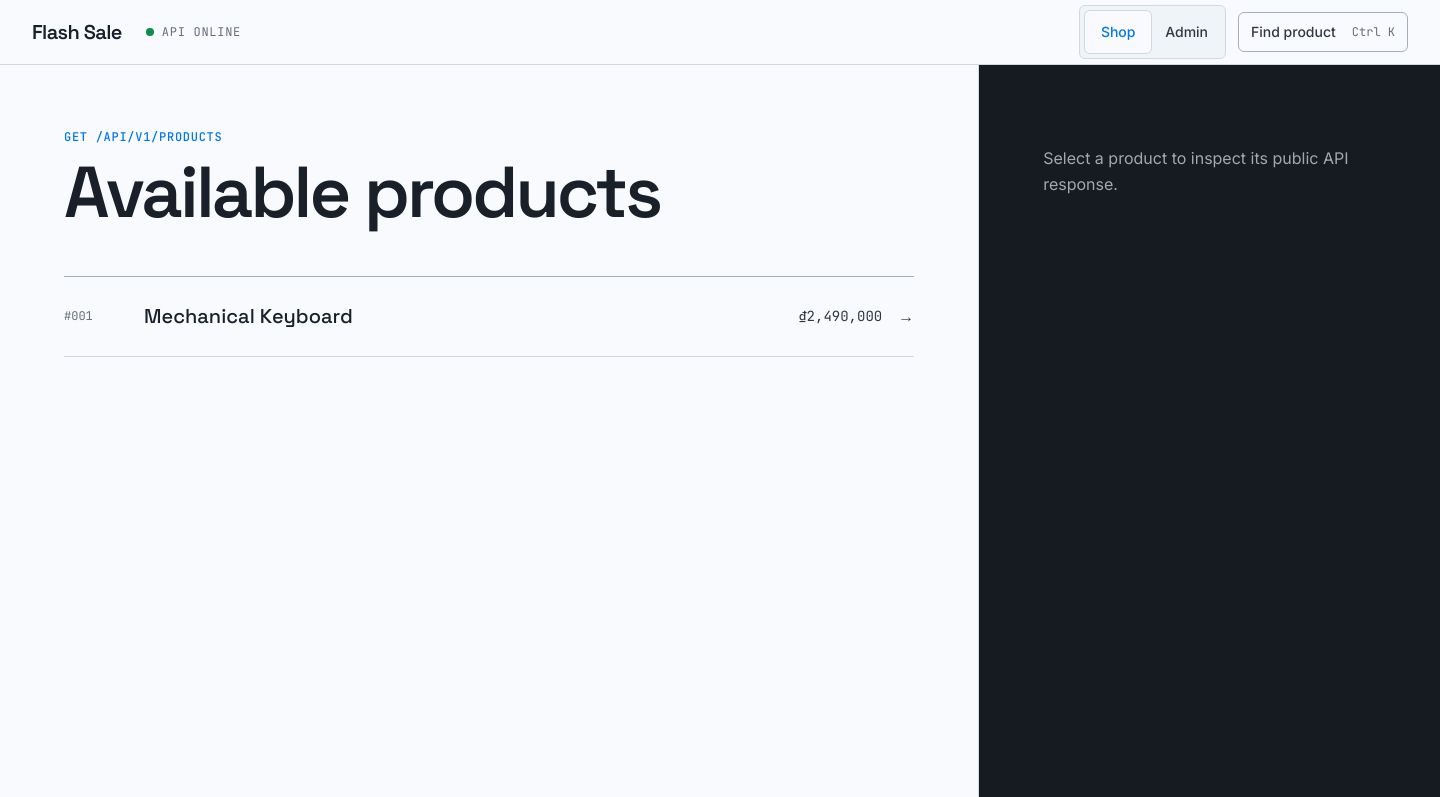
Test case: App › lets a customer place an Order from the selected Product
This screenshot has width=1440, height=797.
Click the button "#001 Mechanical Keyboard ₫2,490,000 →".
click(248, 316)  # box [64,276,914,356]
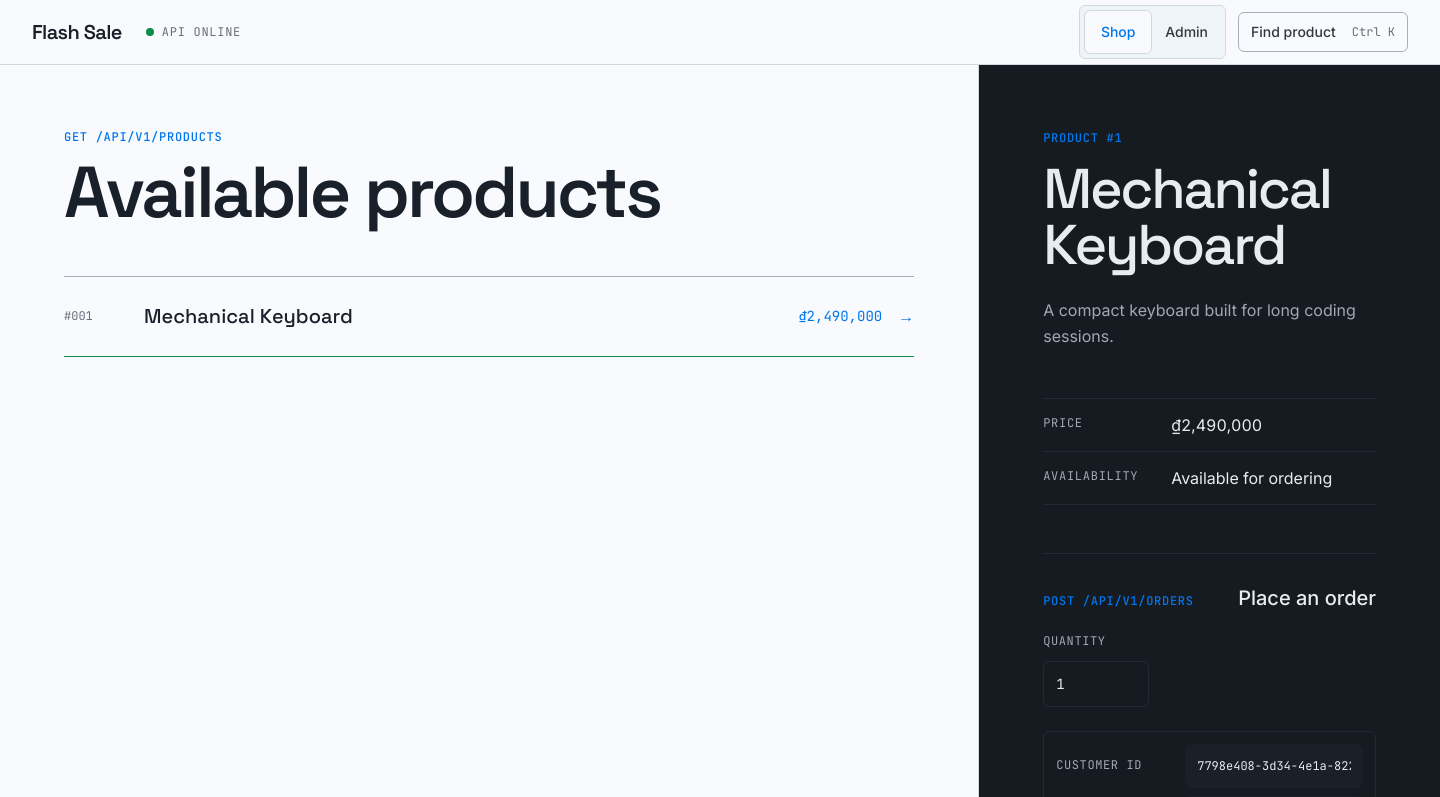
Replace the text in the number field labelled "Quantity" with "2" at point(1096, 684), box [1043,661,1149,707]
(page scrolled)
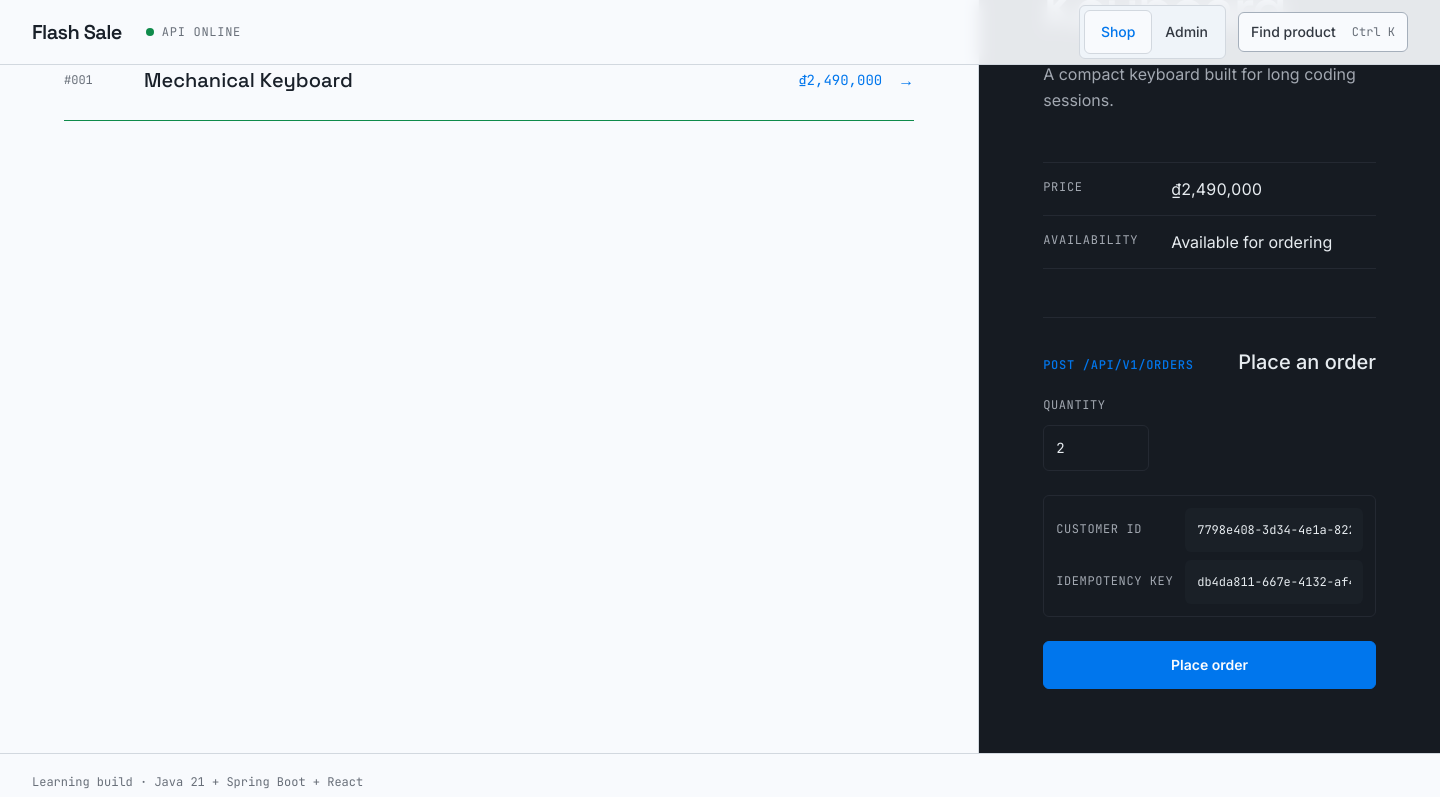
Click the button "Place order".
click(1210, 665)  # box [1043,641,1376,689]
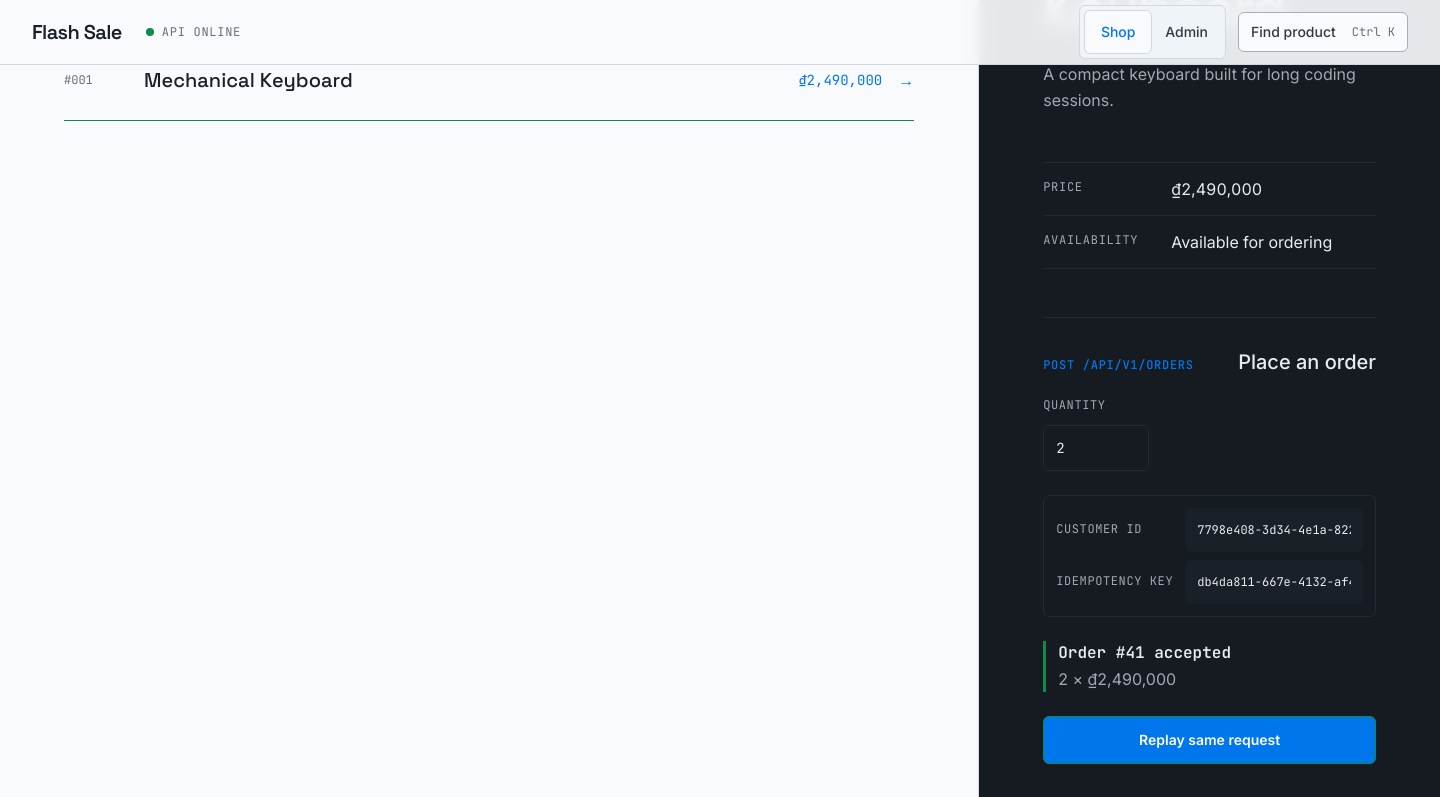
Check: the text "2 × ₫2,490,000" is shown, box [1058,669,1176,689]
